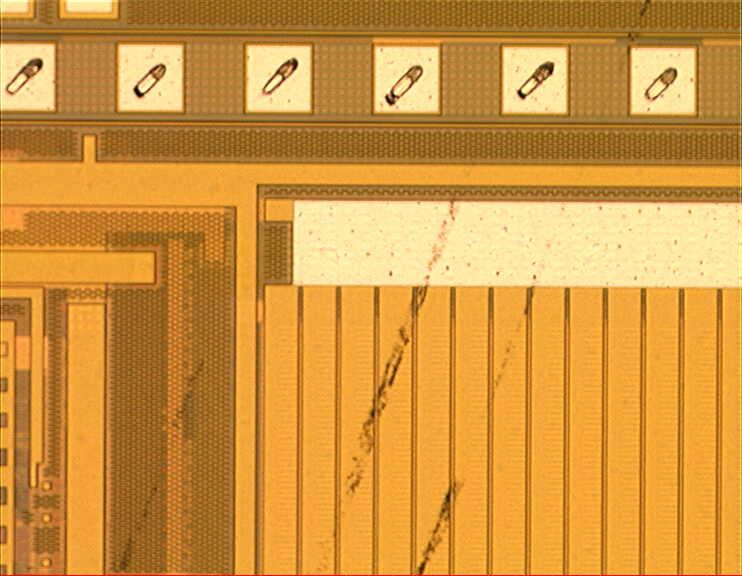SCRATCH: (113, 1, 659, 576)
